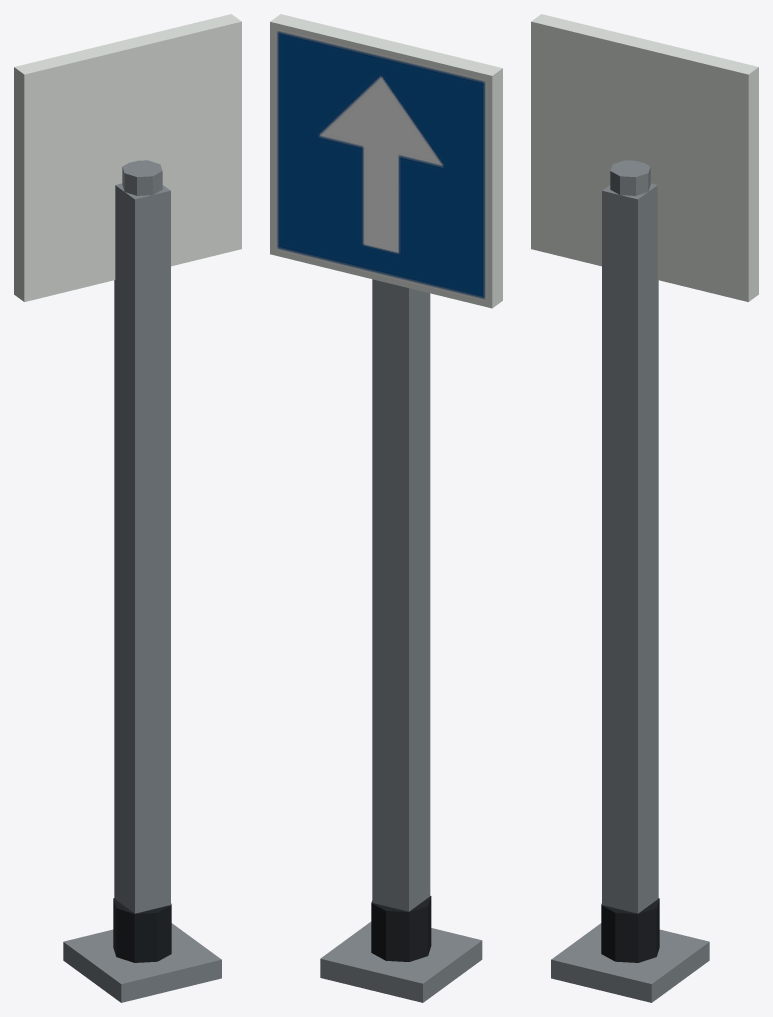
The model's file is one-way-sign.glb.
3 views of the same model, side by side, from view 1: azimuth 30°, elevation 25°; view 2: azimuth 150°, elevation 25°; view 3: azimuth 330°, elevation 25° (orthographic). The views are drawn at different scales.
Visible parts, largest first — view 1: one-way-sign (×2); view 2: one-way-sign (×2); view 3: one-way-sign (×2).
Boxes of the visible parts, left/top/right/bottom form: one-way-sign (×2): left=14, top=14, right=241, bottom=1002; one-way-sign (×2): left=270, top=14, right=502, bottom=1002; one-way-sign (×2): left=531, top=14, right=758, bottom=1002.
Bounding box in the file's own units: 1.69 × 6.81 × 0.784.
4 materials, 1 textured.
